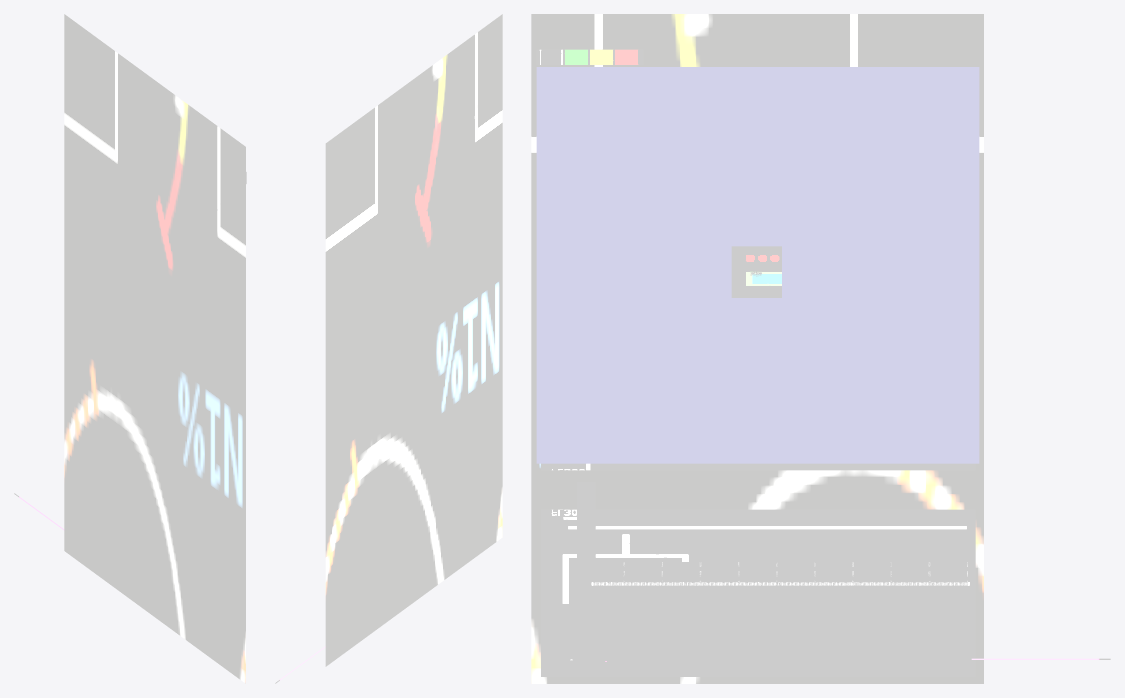
File: mfd-nav.glb
The picture shows the model from 3 angles, left to right: view 1: azimuth 30°, elevation 25°; view 2: azimuth 150°, elevation 25°; view 3: azimuth 270°, elevation 25°; orthographic projection. The views are drawn at different scales.
Visible parts, largest first — view 1: box; view 2: box; view 3: wmap, box (×3), wpalt5id, wmap_sprite, wmap_label, elevation1.
Part boxes in pixels (left/top/right/bottom): box: left=64, top=14, right=245, bottom=683; box: left=325, top=14, right=502, bottom=666; wmap: left=536, top=67, right=979, bottom=463; box (×3): left=531, top=14, right=983, bottom=683; wpalt5id: left=577, top=482, right=595, bottom=661; wmap_sprite: left=731, top=246, right=781, bottom=297; wmap_label: left=536, top=49, right=643, bottom=64; elevation1: left=589, top=562, right=597, bottom=660.
Bounding box in the file's own units: 0.0015 × 0.2775 × 0.2175.
Materials: 8 (7 with a texture image).
